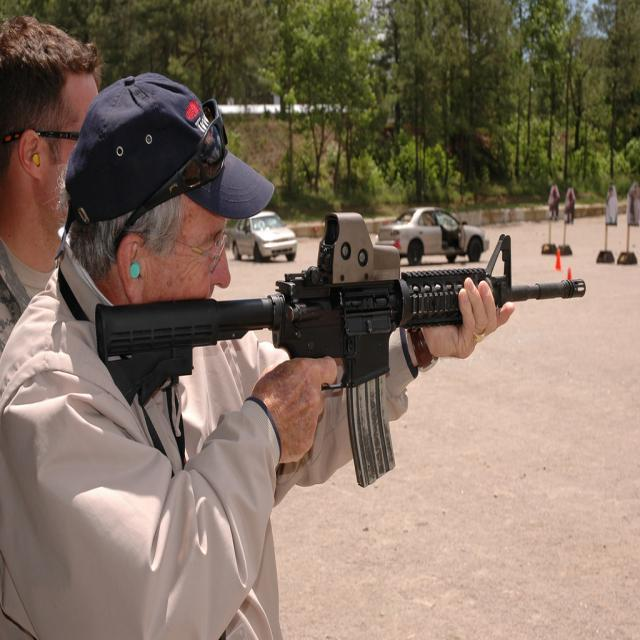weapon: (96, 211, 584, 481)
